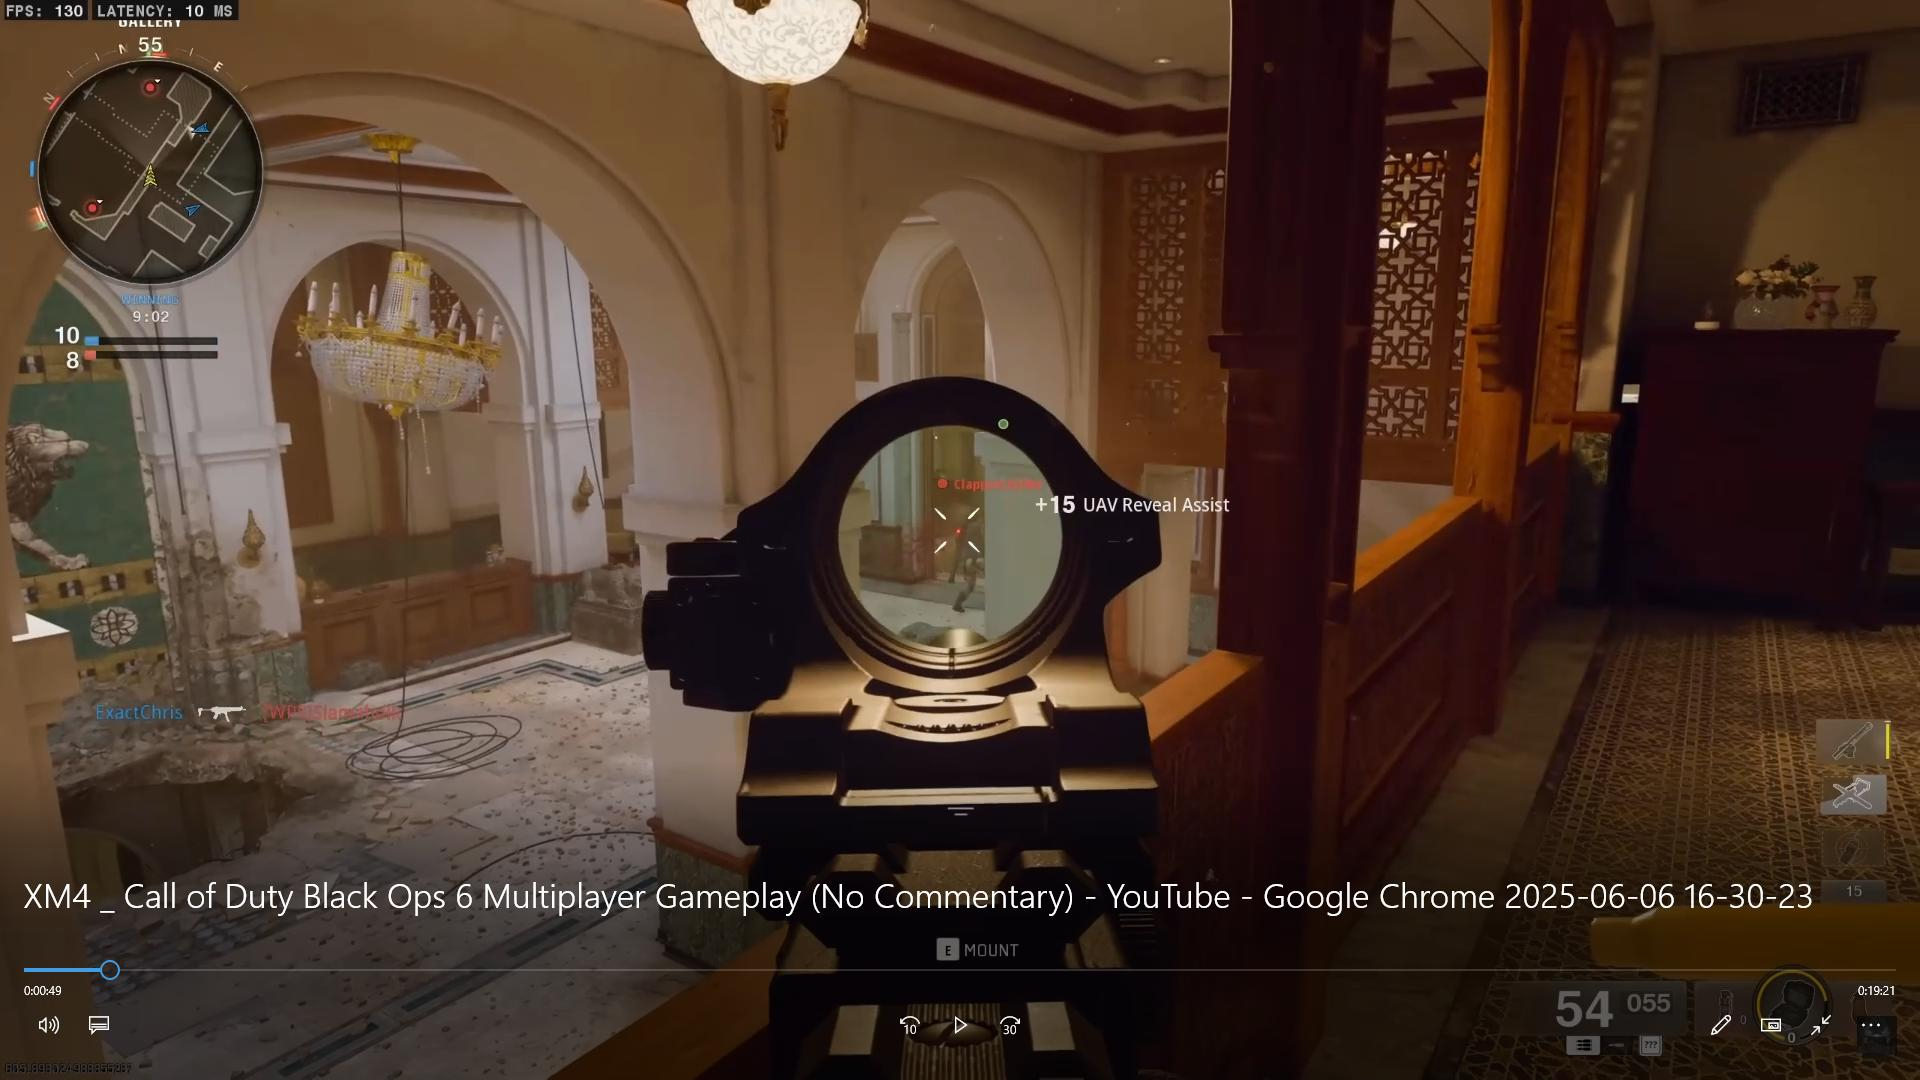Enemy: (944, 498, 986, 611)
